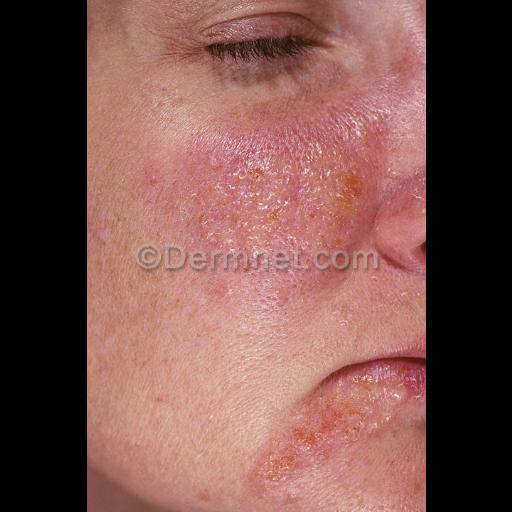Skin_Lesion: (166, 152, 242, 256), (308, 144, 368, 222), (255, 142, 299, 234), (325, 394, 383, 452), (254, 450, 304, 500), (295, 416, 319, 454)
